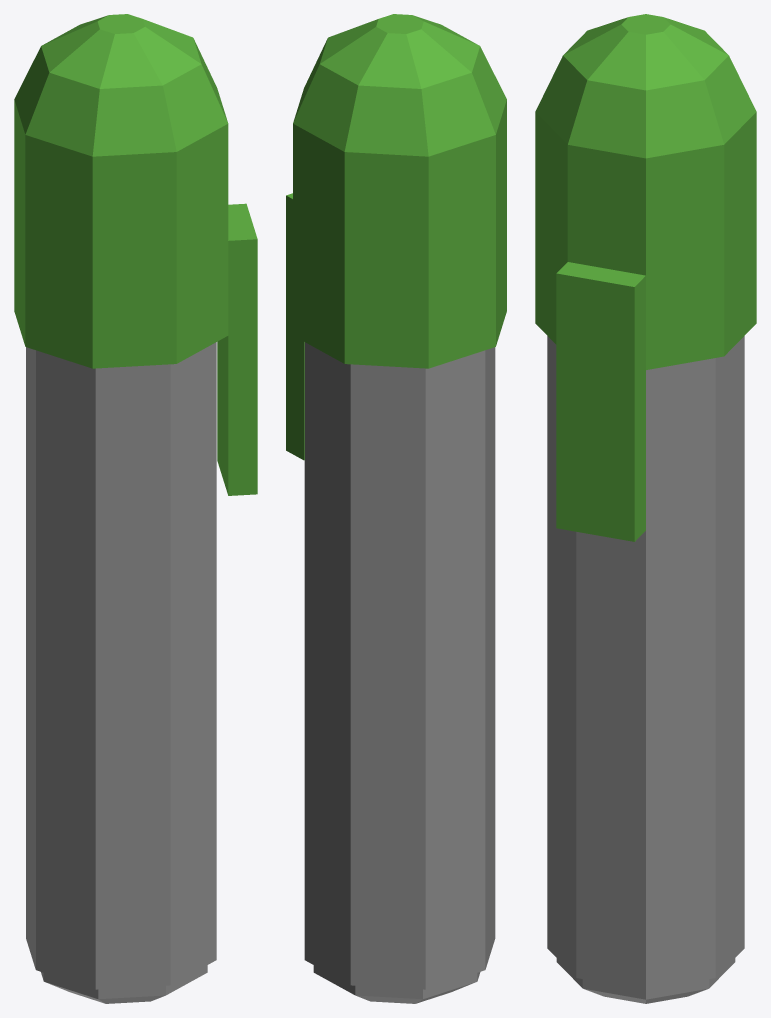
The model's file is marker2.fbx.
3 views of the same model, side by side, from view 1: azimuth 30°, elevation 25°; view 2: azimuth 150°, elevation 25°; view 3: azimuth 270°, elevation 25° (orthographic).
Parts seen in each view (by area): view 1: marker2; view 2: marker2; view 3: marker2.
Part boxes in pixels (box(x1,y1,x2,y2)): marker2: box(14, 14, 257, 1003); marker2: box(286, 14, 506, 1003); marker2: box(535, 14, 756, 1003).
Size of the model in its own units: 0.0332 by 0.1407 by 0.0296.
